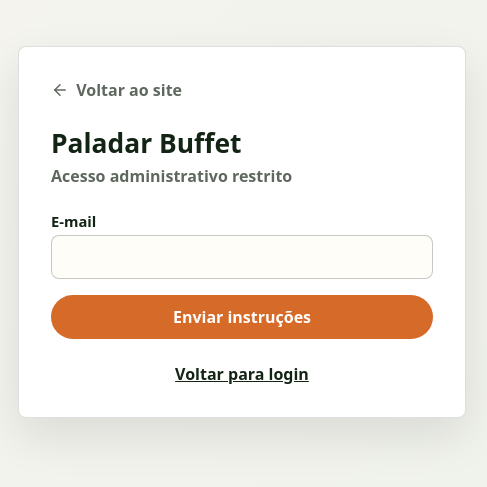
it: ForgotPasswordPage › requests password recovery and shows the generic success message
This screenshot has width=487, height=487.
Type "admin@paladarbuffet.com.br" into the field labelled "E-mail" at (242, 257), box [51,235,433,279]
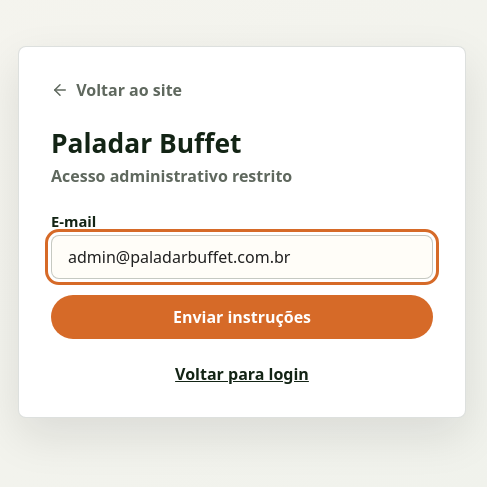
Click the button "Enviar instruções" at (242, 317), box [51,295,433,339]
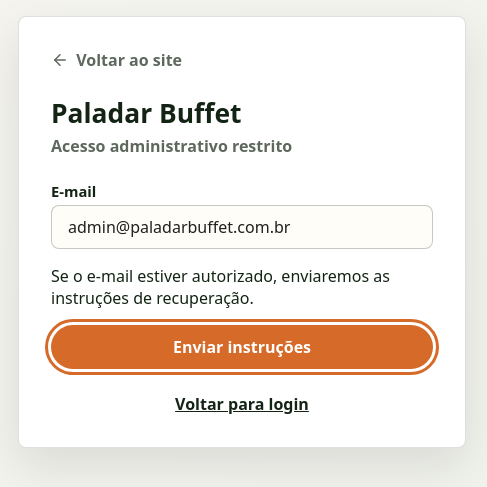
Result: the text "Se o e-mail estiver autorizado, enviaremos as instruções de recuperação." is shown at [51,265,433,309]
